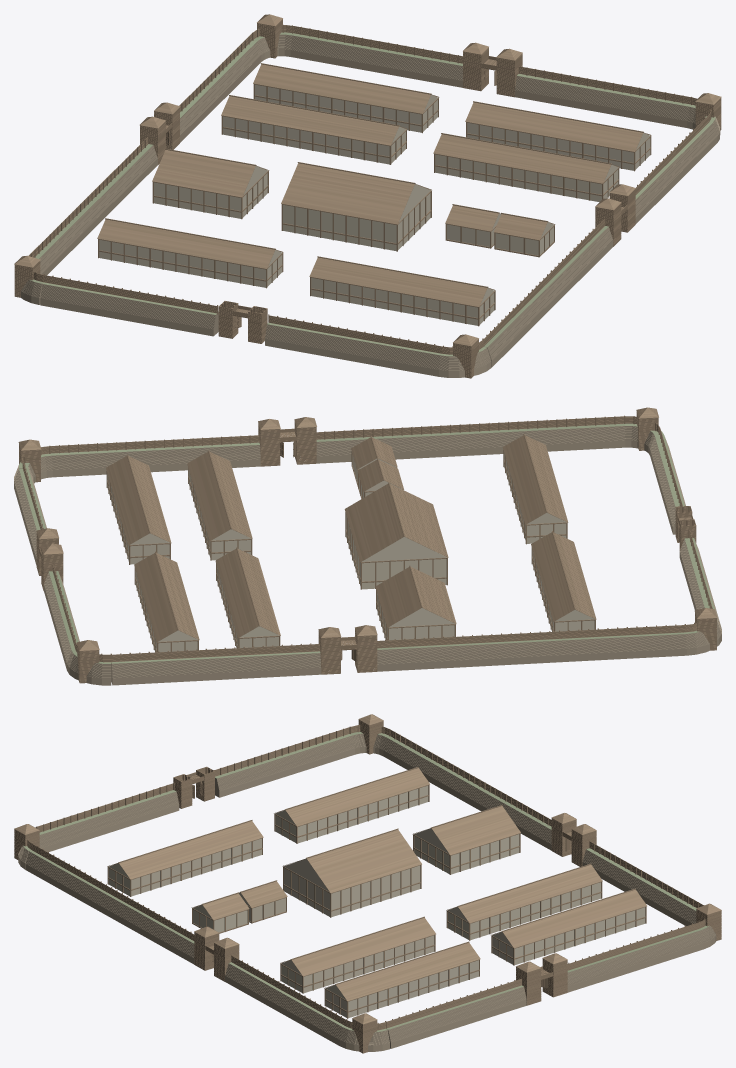
The model's file is roman-fort-b.near.glb.
3 renders of one model, top to bottom at view 1: azimuth 30°, elevation 25°; view 2: azimuth 150°, elevation 25°; view 3: azimuth 270°, elevation 25°, orthographic. The views are drawn at different scales.
Visible parts, largest first — view 1: fort2/principia-1, fort2/barrack-6, fort2/barrack-1, fort2/barrack-5, fort2/barrack-2, fort2/barrack-3, fort2/barrack-4, fort2/praetorium-1, fort2/rampart-sw-5, fort2/rampart-ne-1, fort2/rampart-sw-4, fort2/rampart-ne-0 (+26 smaller); view 2: fort2/rampart-nw-3, fort2/principia-1, fort2/rampart-se-6, fort2/rampart-nw-2, fort2/praetorium-1, fort2/barrack-4, fort2/barrack-2, fort2/barrack-6, fort2/barrack-3, fort2/barrack-5, fort2/barrack-1, fort2/rampart-se-7 (+20 smaller); view 3: fort2/principia-1, fort2/barrack-1, fort2/barrack-4, fort2/barrack-3, fort2/barrack-5, fort2/barrack-6, fort2/barrack-2, fort2/praetorium-1, fort2/rampart-nw-3, fort2/rampart-se-6, fort2/rampart-se-7, fort2/rampart-sw-5 (+26 smaller).
Boxes of the visible parts, left/top/right/bottom form: fort2/principia-1: left=281, top=162, right=431, bottom=251; fort2/barrack-6: left=309, top=256, right=495, bottom=326; fort2/barrack-1: left=221, top=95, right=407, bottom=164; fort2/barrack-5: left=97, top=218, right=283, bottom=288; fort2/barrack-2: left=433, top=133, right=619, bottom=201; fort2/barrack-3: left=253, top=63, right=439, bottom=133; fort2/barrack-4: left=465, top=101, right=651, bottom=171; fort2/praetorium-1: left=152, top=148, right=269, bottom=219; fort2/rampart-sw-5: left=265, top=322, right=491, bottom=377; fort2/rampart-ne-1: left=253, top=32, right=462, bottom=87; fort2/rampart-sw-4: left=40, top=282, right=218, bottom=336; fort2/rampart-ne-0: left=515, top=74, right=691, bottom=127; fort2/rampart-nw-3: left=377, top=618, right=721, bottom=671; fort2/principia-1: left=344, top=482, right=448, bottom=589; fort2/rampart-se-6: left=316, top=423, right=625, bottom=463; fort2/rampart-nw-2: left=111, top=651, right=321, bottom=685; fort2/praetorium-1: left=375, top=565, right=456, bottom=640; fort2/barrack-4: left=106, top=454, right=171, bottom=564; fort2/barrack-2: left=187, top=450, right=252, bottom=560; fort2/barrack-6: left=503, top=434, right=568, bottom=544; fort2/barrack-3: left=134, top=551, right=199, bottom=652; fort2/barrack-5: left=531, top=531, right=596, bottom=631; fort2/barrack-1: left=215, top=547, right=280, bottom=648; fort2/rampart-se-7: left=14, top=442, right=260, bottom=483; fort2/principia-1: left=282, top=828, right=421, bottom=917; fort2/barrack-1: left=446, top=863, right=602, bottom=940; fort2/barrack-4: left=324, top=941, right=480, bottom=1018; fort2/barrack-3: left=491, top=888, right=646, bottom=965; fort2/barrack-5: left=274, top=767, right=429, bottom=843; fort2/barrack-6: left=107, top=820, right=263, bottom=896; fort2/barrack-2: left=280, top=916, right=435, bottom=993; fort2/praetorium-1: left=412, top=805, right=520, bottom=874; fort2/rampart-nw-3: left=351, top=732, right=551, bottom=850; fort2/rampart-se-6: left=25, top=850, right=194, bottom=964; fort2/rampart-se-7: left=225, top=962, right=389, bottom=1051; fort2/rampart-sw-5: left=18, top=790, right=179, bottom=869.
Size of the model in its own units: 169 by 11.88 by 163.
